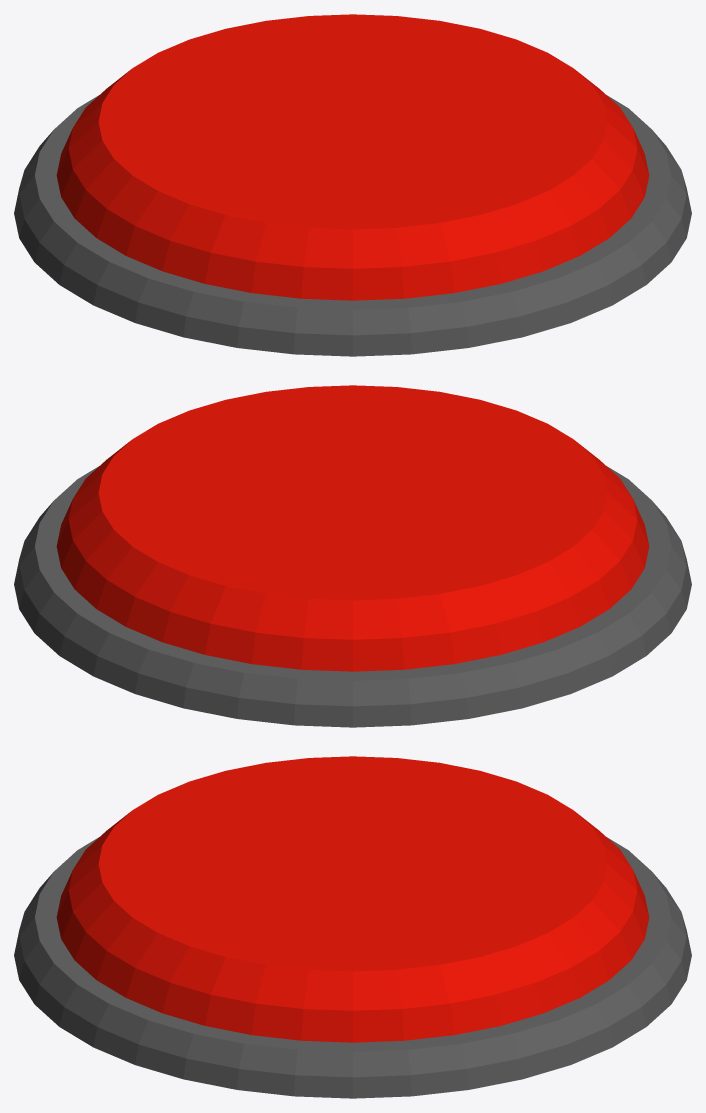
File: ButtonLowPolyFixed.fbx
The picture shows the model from 3 angles, top to bottom: view 1: azimuth 30°, elevation 25°; view 2: azimuth 150°, elevation 25°; view 3: azimuth 270°, elevation 25°; orthographic projection.
Visible parts, largest first — view 1: Circle; view 2: Circle; view 3: Circle.
Boxes of the visible parts, x1,y1,x2,y2 form: Circle: (14,14,691,356); Circle: (14,385,691,727); Circle: (14,756,691,1098).
Bounding box in the file's own units: 210 × 31.31 × 210.
